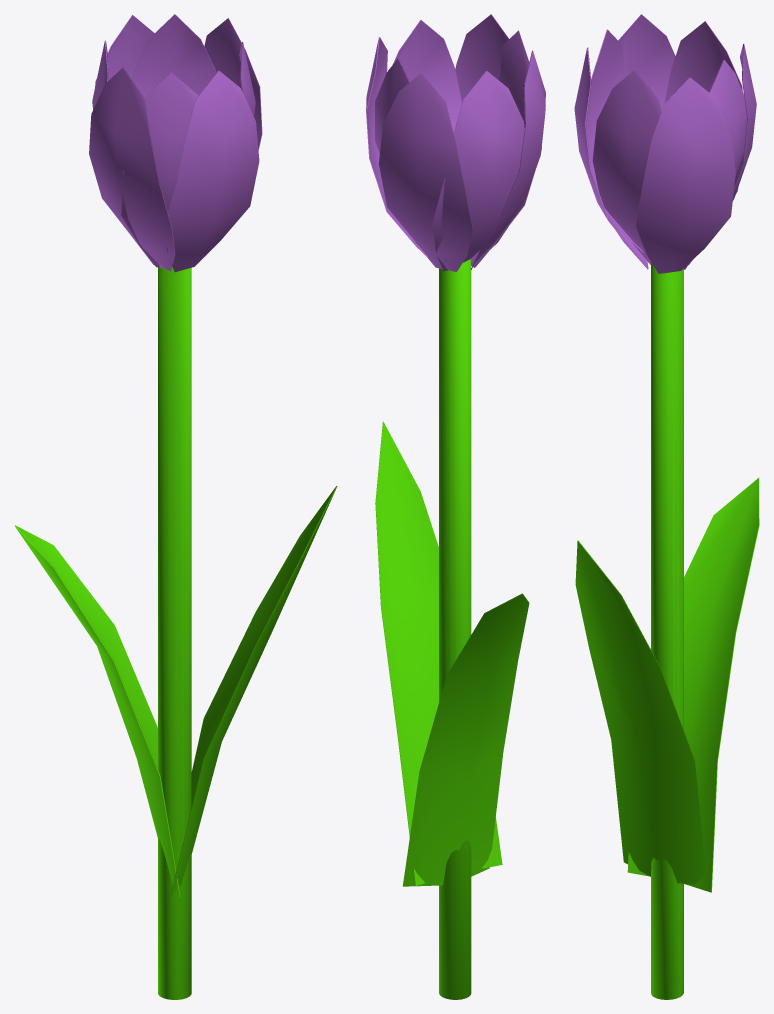
Rendered from tulip 1.fbx.
3 views of the same model, side by side, from view 1: azimuth 30°, elevation 25°; view 2: azimuth 150°, elevation 25°; view 3: azimuth 270°, elevation 25° (orthographic).
Visible parts, largest first — view 1: polySurface2, polySurface9, polySurface7, polySurface11, polySurface1, polySurface3, polySurface4, polySurface8, polySurface10; view 2: polySurface11, polySurface2, polySurface1, polySurface10, polySurface6, polySurface7, polySurface5, polySurface9, polySurface3, polySurface8, polySurface4; view 3: polySurface1, polySurface2, polySurface11, polySurface8, polySurface5, polySurface7, polySurface6, polySurface3, polySurface4, polySurface9, polySurface10.
Boxes of the visible parts, <box> form: polySurface2: <box>158,267,191,999</box>; polySurface9: <box>166,70,259,272</box>; polySurface7: <box>89,67,175,271</box>; polySurface11: <box>15,525,180,897</box>; polySurface1: <box>170,486,337,896</box>; polySurface3: <box>121,72,198,267</box>; polySurface4: <box>132,14,216,97</box>; polySurface8: <box>204,18,262,149</box>; polySurface10: <box>95,15,154,86</box>; polySurface11: <box>403,593,529,886</box>; polySurface2: <box>439,259,471,999</box>; polySurface1: <box>375,421,502,885</box>; polySurface10: <box>379,73,472,271</box>; polySurface6: <box>432,70,524,271</box>; polySurface7: <box>470,50,545,269</box>; polySurface5: <box>393,20,461,132</box>; polySurface9: <box>455,14,508,102</box>; polySurface3: <box>471,30,541,267</box>; polySurface8: <box>366,37,427,257</box>; polySurface4: <box>375,58,409,153</box>; polySurface1: <box>575,540,706,884</box>; polySurface2: <box>651,262,683,999</box>; polySurface11: <box>627,478,759,892</box>; polySurface8: <box>635,77,735,273</box>; polySurface5: <box>592,70,661,264</box>; polySurface7: <box>618,14,675,110</box>; polySurface6: <box>664,21,742,265</box>; polySurface3: <box>586,29,644,253</box>; polySurface4: <box>709,59,746,177</box>; polySurface9: <box>574,47,648,269</box>; polySurface10: <box>684,44,756,269</box>.
Size of the model in its own units: 26.94 by 106 by 18.71.
